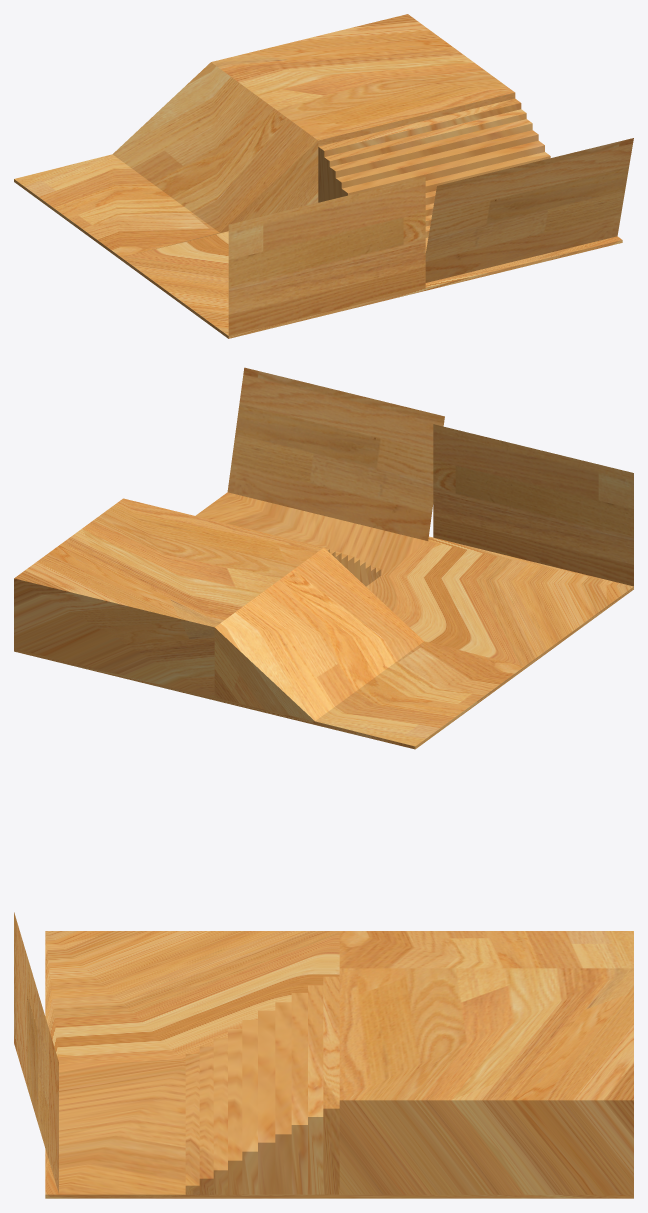
Rendered from player_controller_playground.obj.
3 renders of one model, top to bottom at view 1: azimuth 30°, elevation 25°; view 2: azimuth 150°, elevation 25°; view 3: azimuth 270°, elevation 25°, orthographic. The views are drawn at different scales.
Parts seen in each view (by area): view 1: Cube; view 2: Cube; view 3: Cube.
Boxes of the visible parts, <box> form: Cube: <box>14,14,633,338</box>; Cube: <box>14,367,633,749</box>; Cube: <box>14,912,633,1198</box>.
Bounding box in the file's own units: 17.17 × 4.76 × 17.06.
1 material, 1 textured.
